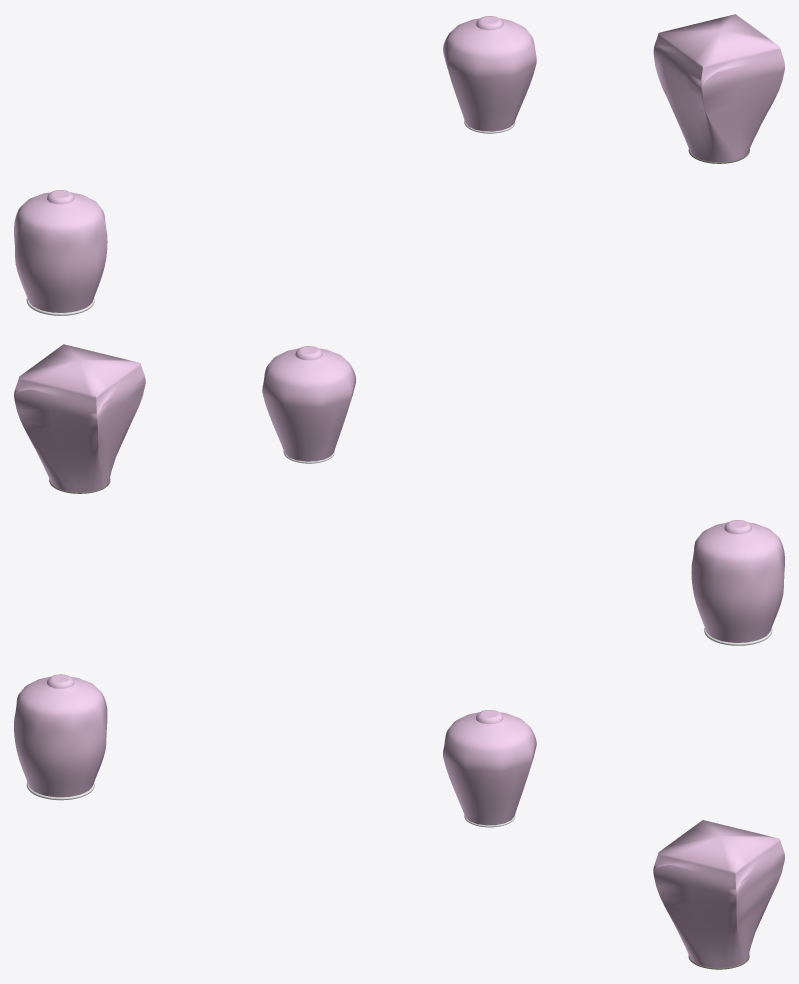
File: Lantern (1).gltf
3 views of the same model, one above another, from view 1: azimuth 30°, elevation 25°; view 2: azimuth 150°, elevation 25°; view 3: azimuth 330°, elevation 25° (orthographic).
Parts seen in each view (by area): view 1: Loft.1 (×2), Loft; view 2: Loft.1 (×2), Loft; view 3: Loft.1 (×2), Loft.
Boxes of the visible parts, x1=… form: Loft.1 (×2): x1=443, y1=14, x2=784, y2=161; Loft: x1=14, y1=190, x2=107, y2=312; Loft.1 (×2): x1=14, y1=344, x2=355, y2=492; Loft: x1=691, y1=520, x2=784, y2=642; Loft.1 (×2): x1=443, y1=710, x2=784, y2=967; Loft: x1=14, y1=674, x2=107, y2=797.
Bounding box in the file's own units: 3551 × 854 × 405.
